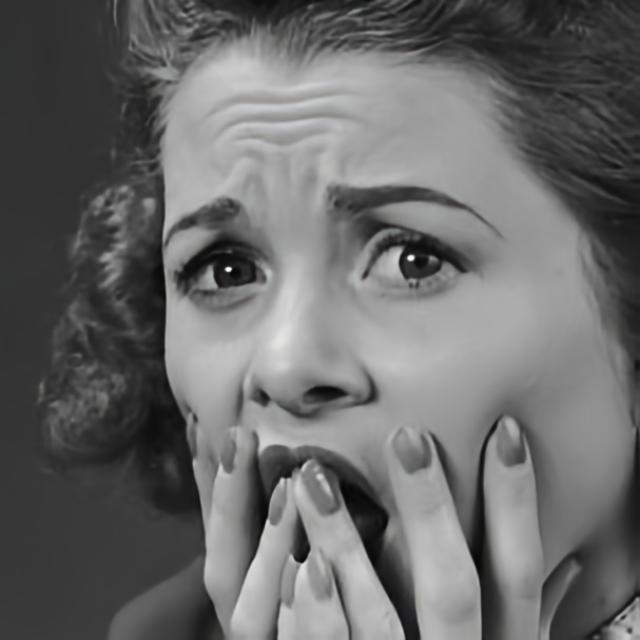fear: (159, 41, 640, 640)
